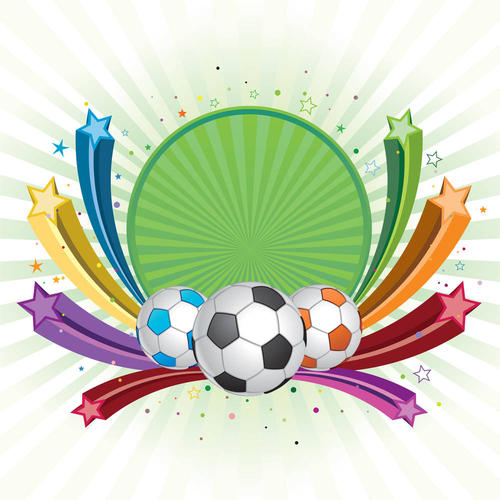football: (196, 278, 310, 396)
